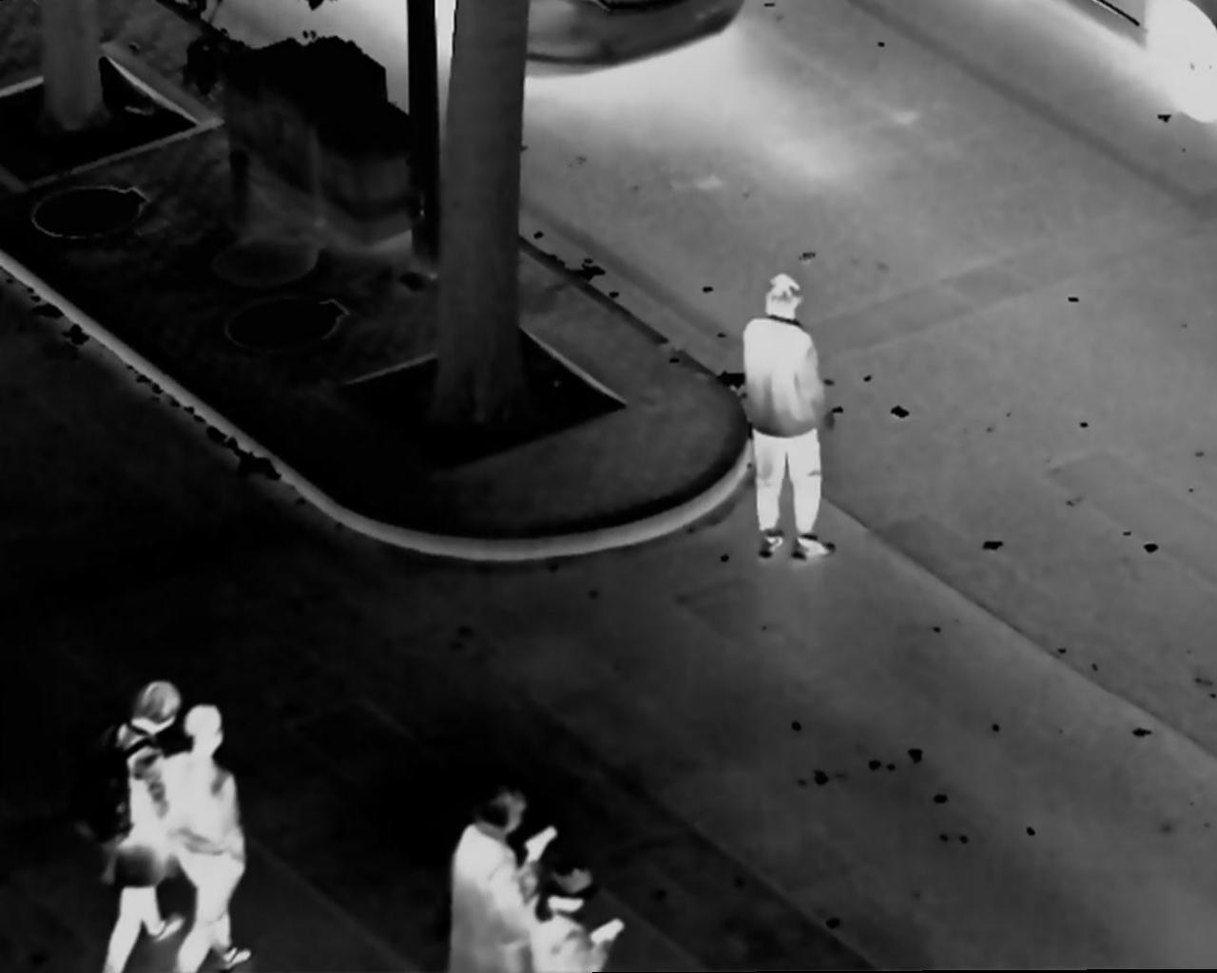person: (737, 265, 843, 563), (161, 705, 269, 959), (105, 677, 184, 950), (446, 785, 553, 973), (534, 866, 627, 973)
